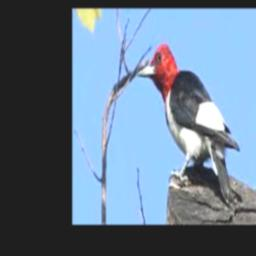Woodpecker: (137, 43, 239, 204)
